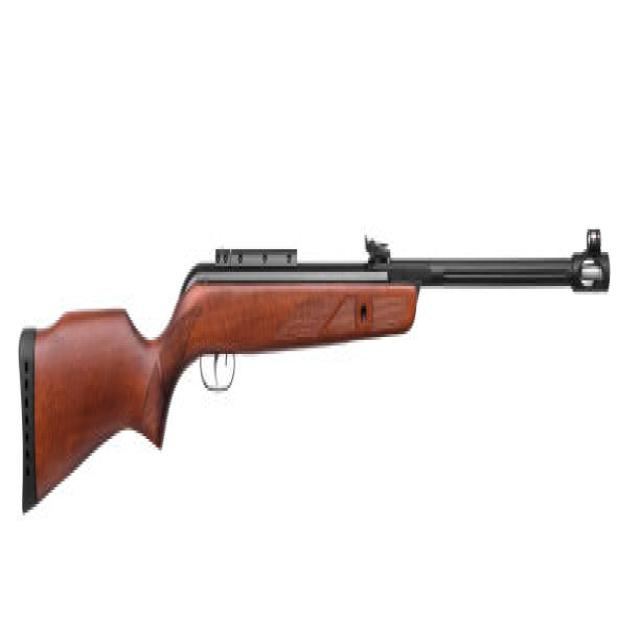rifle: (13, 210, 614, 526)
